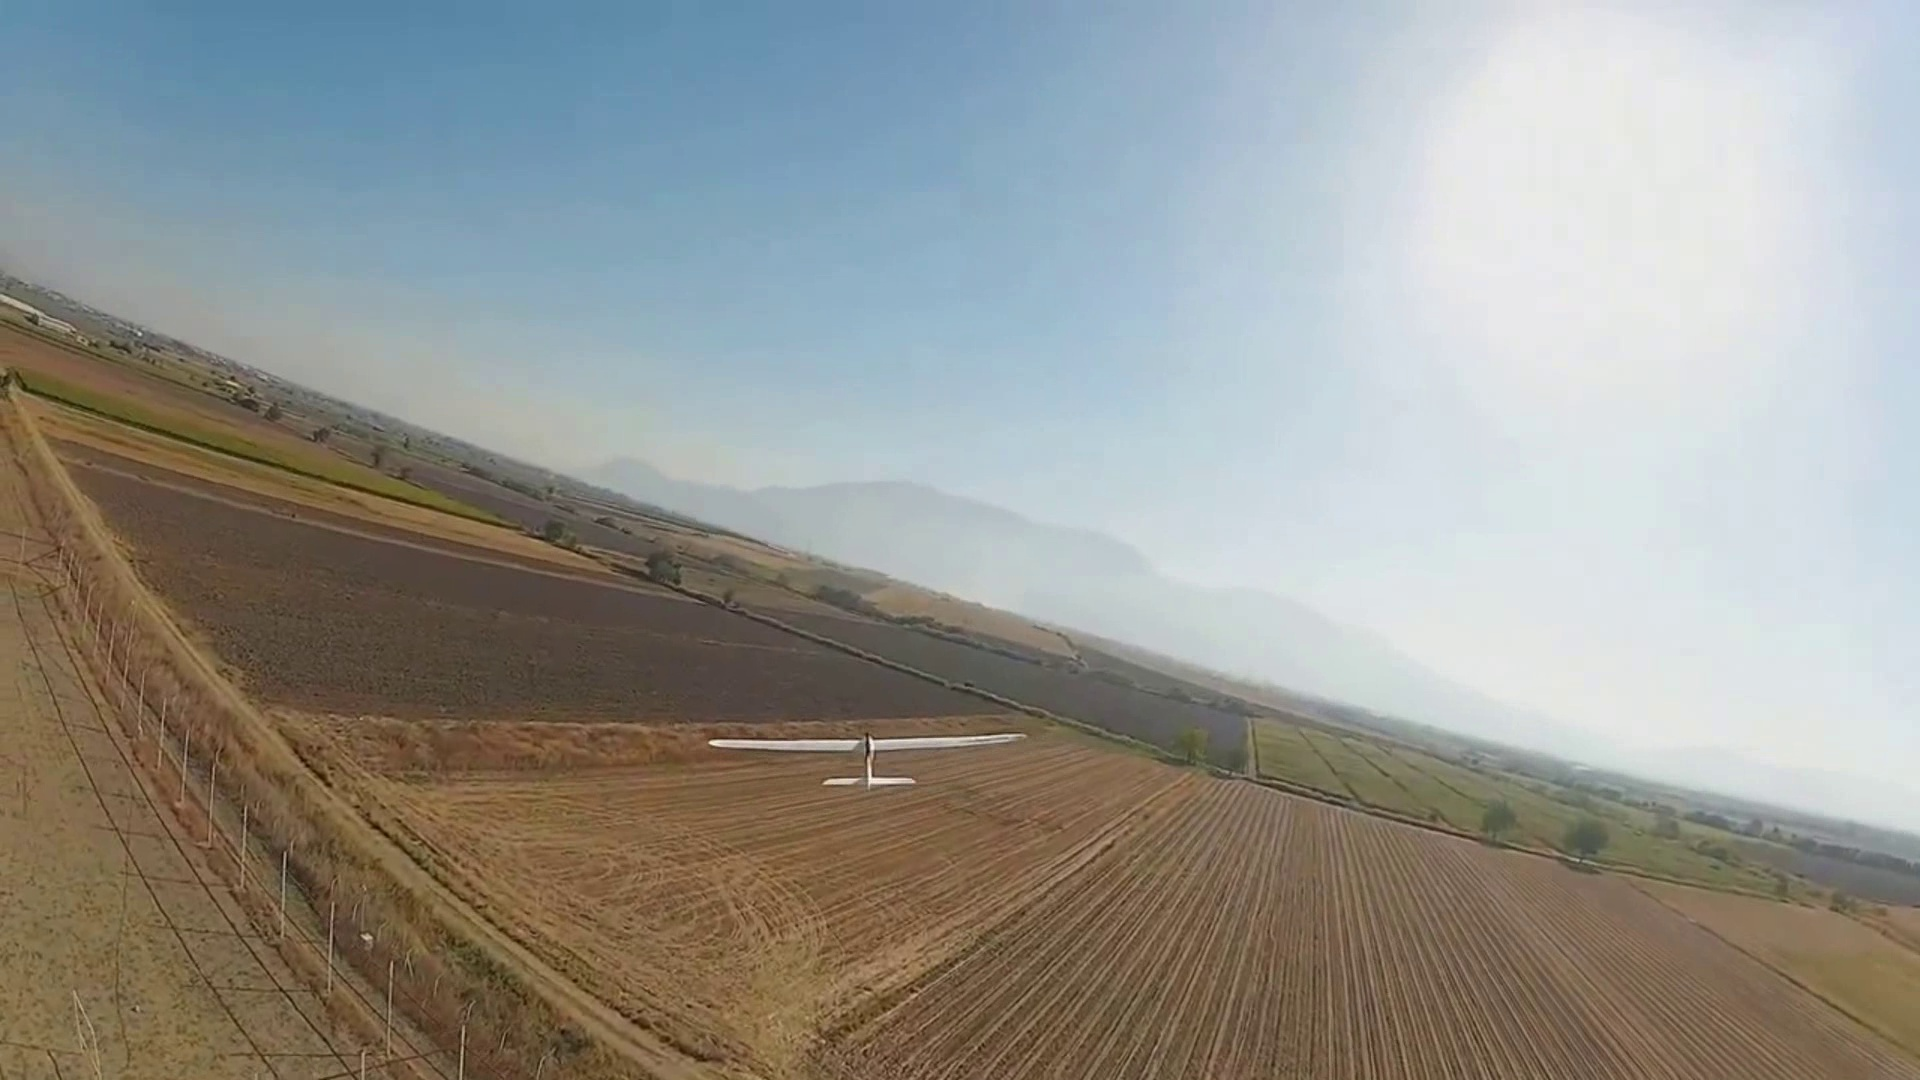airplane: (3, 277, 1917, 887)
